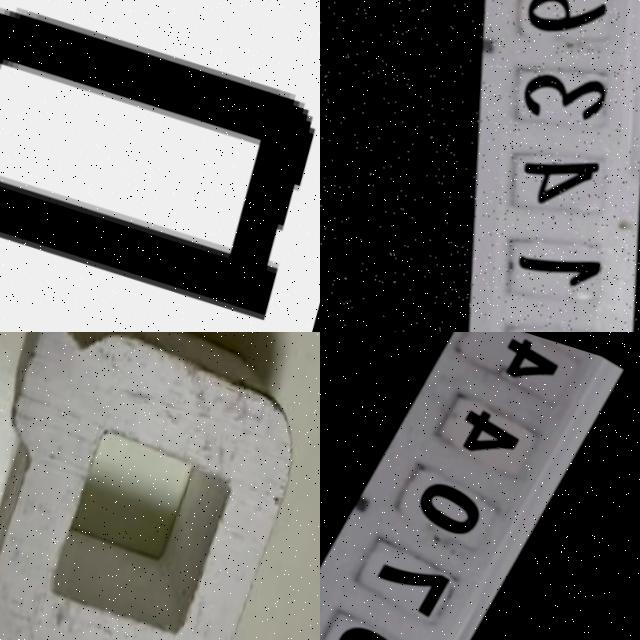0: (385, 462, 509, 565), (320, 606, 426, 640)
1: (491, 224, 618, 329)
3: (501, 51, 625, 154)
4: (496, 135, 618, 237), (428, 392, 545, 490), (472, 332, 584, 413)
5: (484, 307, 607, 332)
6: (505, 0, 627, 66)
7: (344, 535, 469, 640)
P: (0, 9, 311, 322)
Q: (0, 332, 320, 640)
